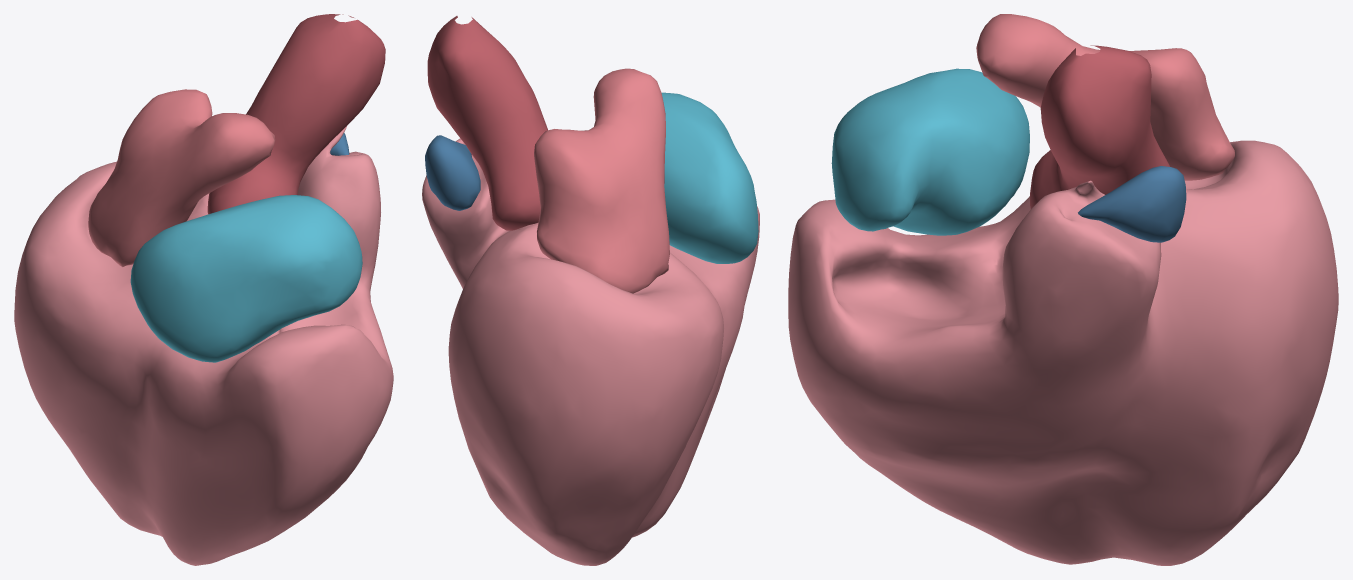
Rendered from frame_10.glb.
The picture shows the model from 3 angles, left to right: view 1: azimuth 30°, elevation 25°; view 2: azimuth 150°, elevation 25°; view 3: azimuth 270°, elevation 25°; orthographic projection. The views are drawn at different scales.
Visible parts, largest first — view 1: Renderer Node; view 2: Renderer Node; view 3: Renderer Node.
Part boxes in pixels (box(x1,y1,x2,y2)): Renderer Node: box(14, 14, 393, 565); Renderer Node: box(422, 16, 759, 565); Renderer Node: box(788, 14, 1338, 565).
Size of the model in its own units: 107 by 164 by 135.
